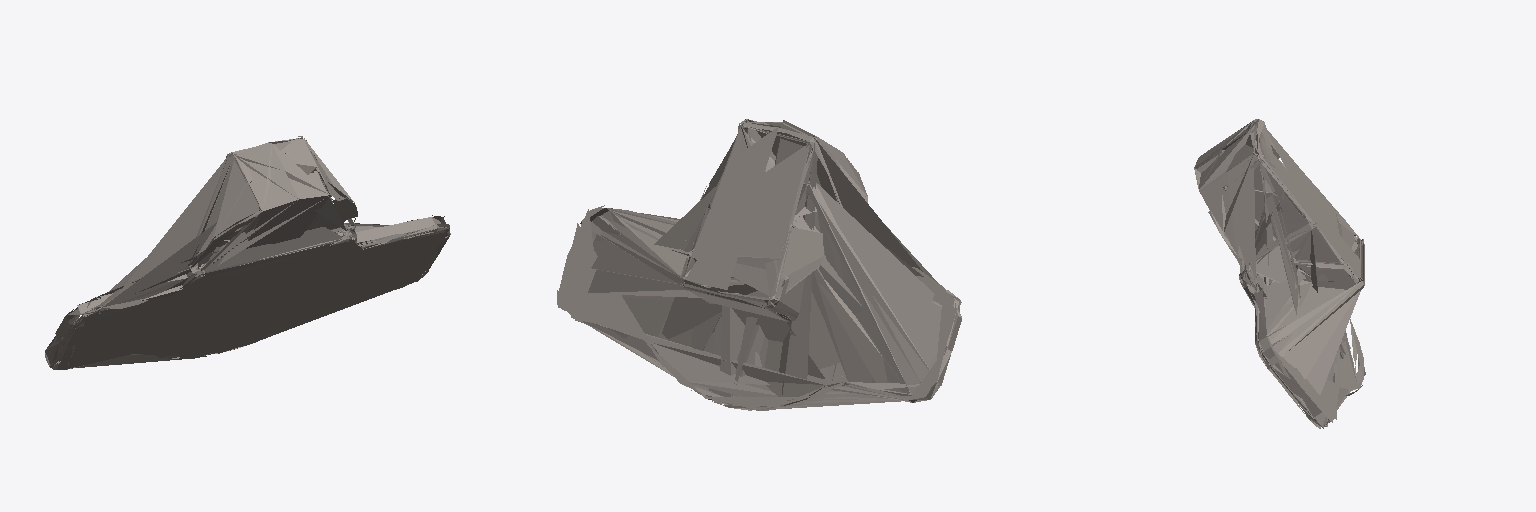
File: Hinge_Full.obj
The picture shows the model from 3 angles: view 1: azimuth 30°, elevation 25°; view 2: azimuth 150°, elevation 25°; view 3: azimuth 270°, elevation 25°; orthographic projection.
Visible parts, largest first — view 1: [number redacted], [number redacted]; view 2: [number redacted], [number redacted]; view 3: [number redacted], [number redacted].
Boxes of the visible parts, x1,y1,x2,y2 form: [number redacted]: [45, 136, 450, 369]; [number redacted]: [59, 139, 446, 347]; [number redacted]: [557, 119, 961, 410]; [number redacted]: [580, 119, 959, 408]; [number redacted]: [1194, 119, 1365, 428]; [number redacted]: [1194, 119, 1364, 423].
Bounding box in the file's own units: 81 × 50.69 × 31.69.